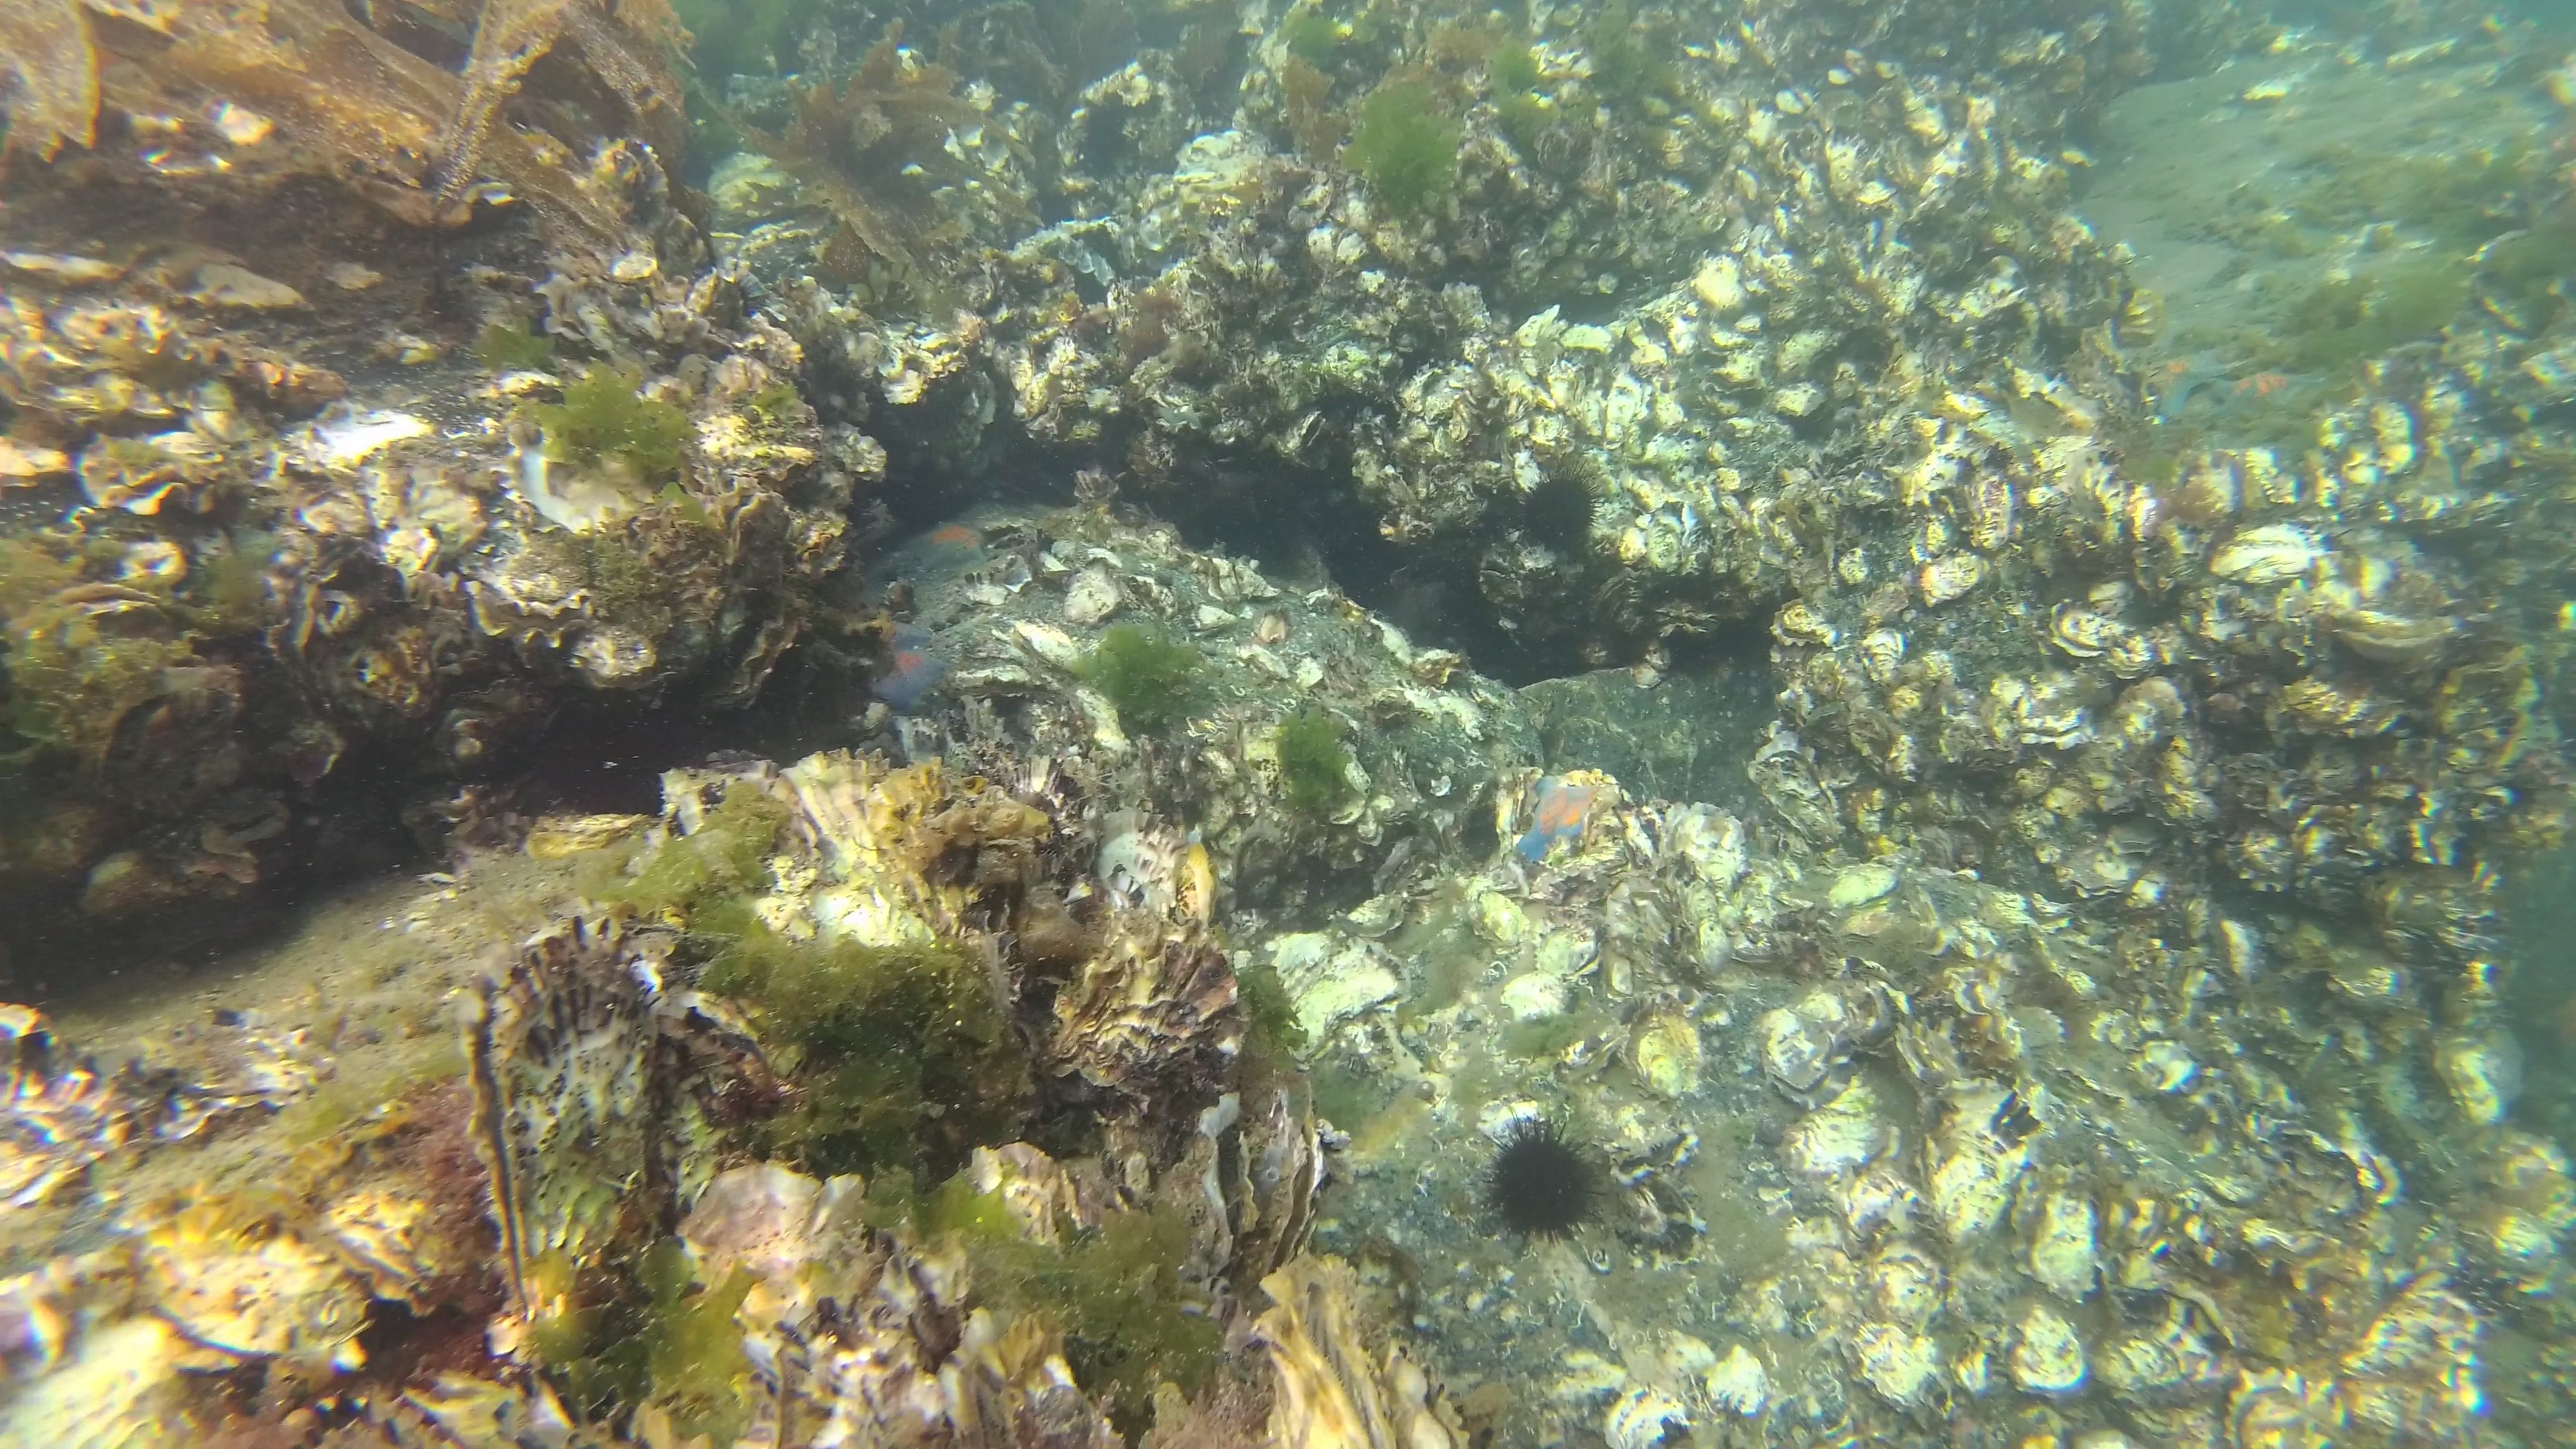echinus: (1479, 1120, 1606, 1246), (1522, 472, 1606, 557)
starfish: (2135, 345, 2254, 416), (1518, 771, 1601, 867), (2229, 372, 2321, 423), (885, 648, 957, 702), (849, 605, 922, 660), (915, 524, 980, 575)
